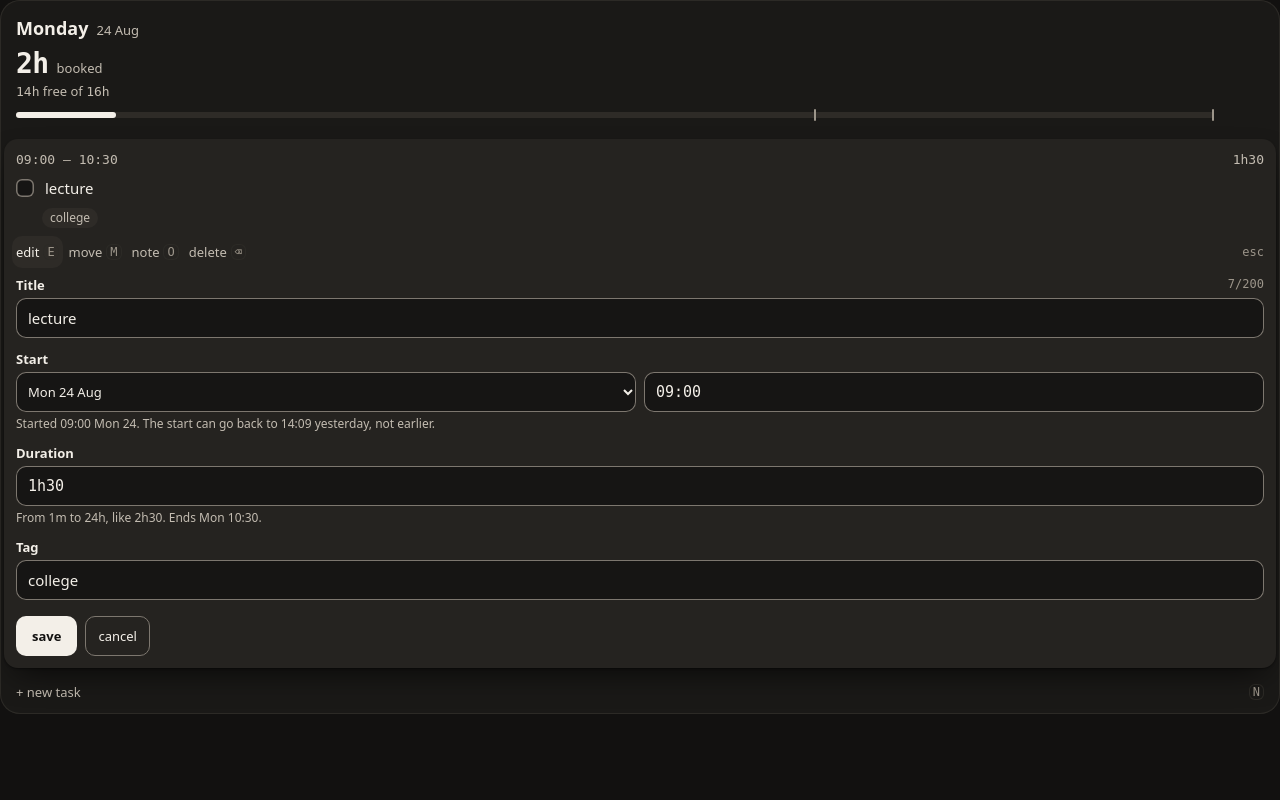
Test: the two verbs an opened row offers › keeps what was typed when the server refuses the change
This screenshot has width=1280, height=800.
Replace the text in the field labelled "Start" with "11:00" at [954, 392], box [644, 372, 1264, 412]
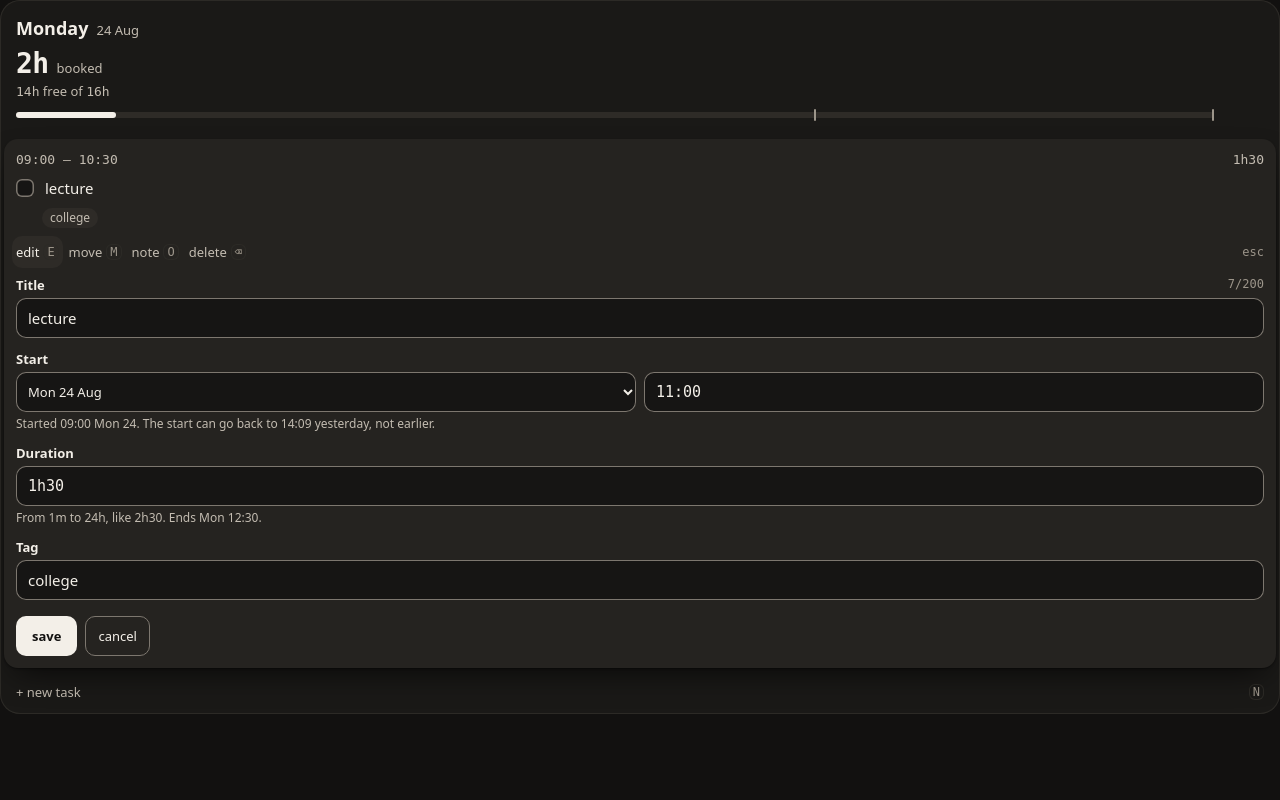
Click the button "save" at [47, 636], box [16, 616, 77, 656]
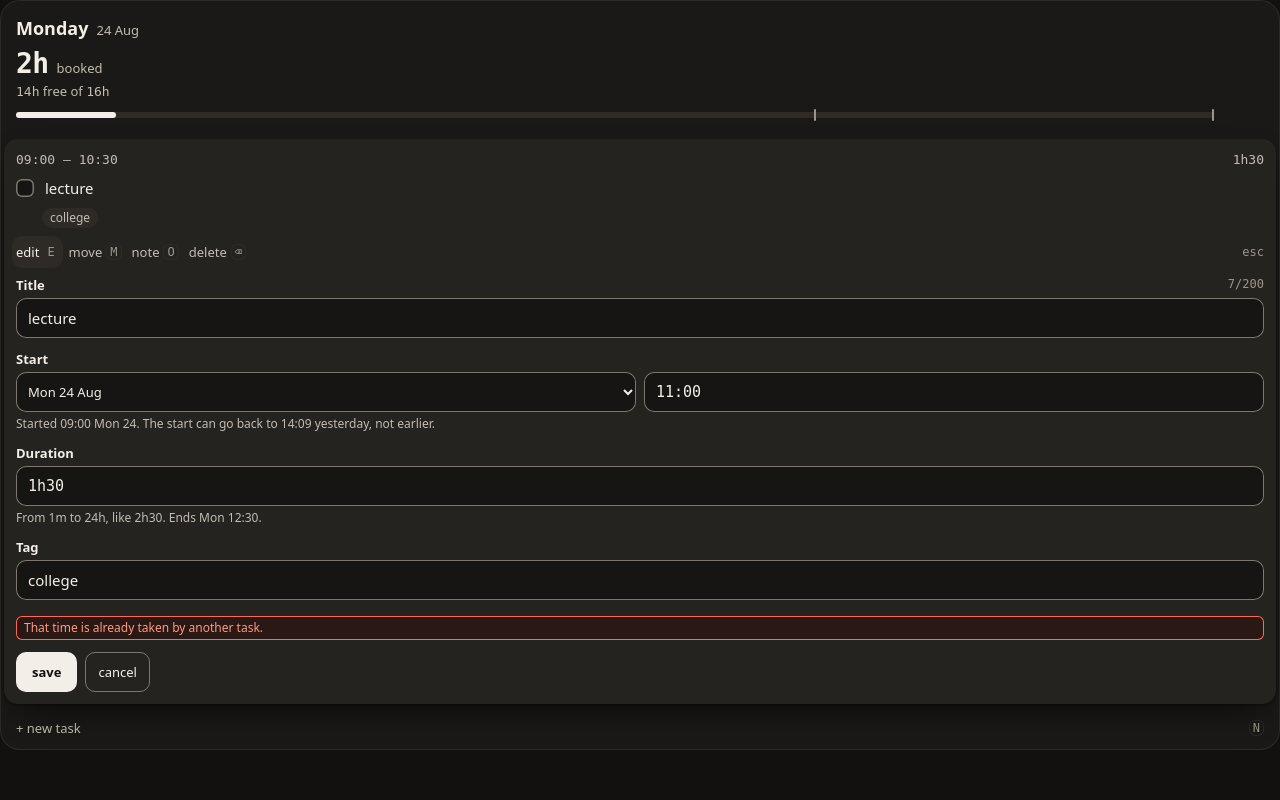
Expected: the message reads "That time is already taken by another task.", [24, 619, 263, 636]
